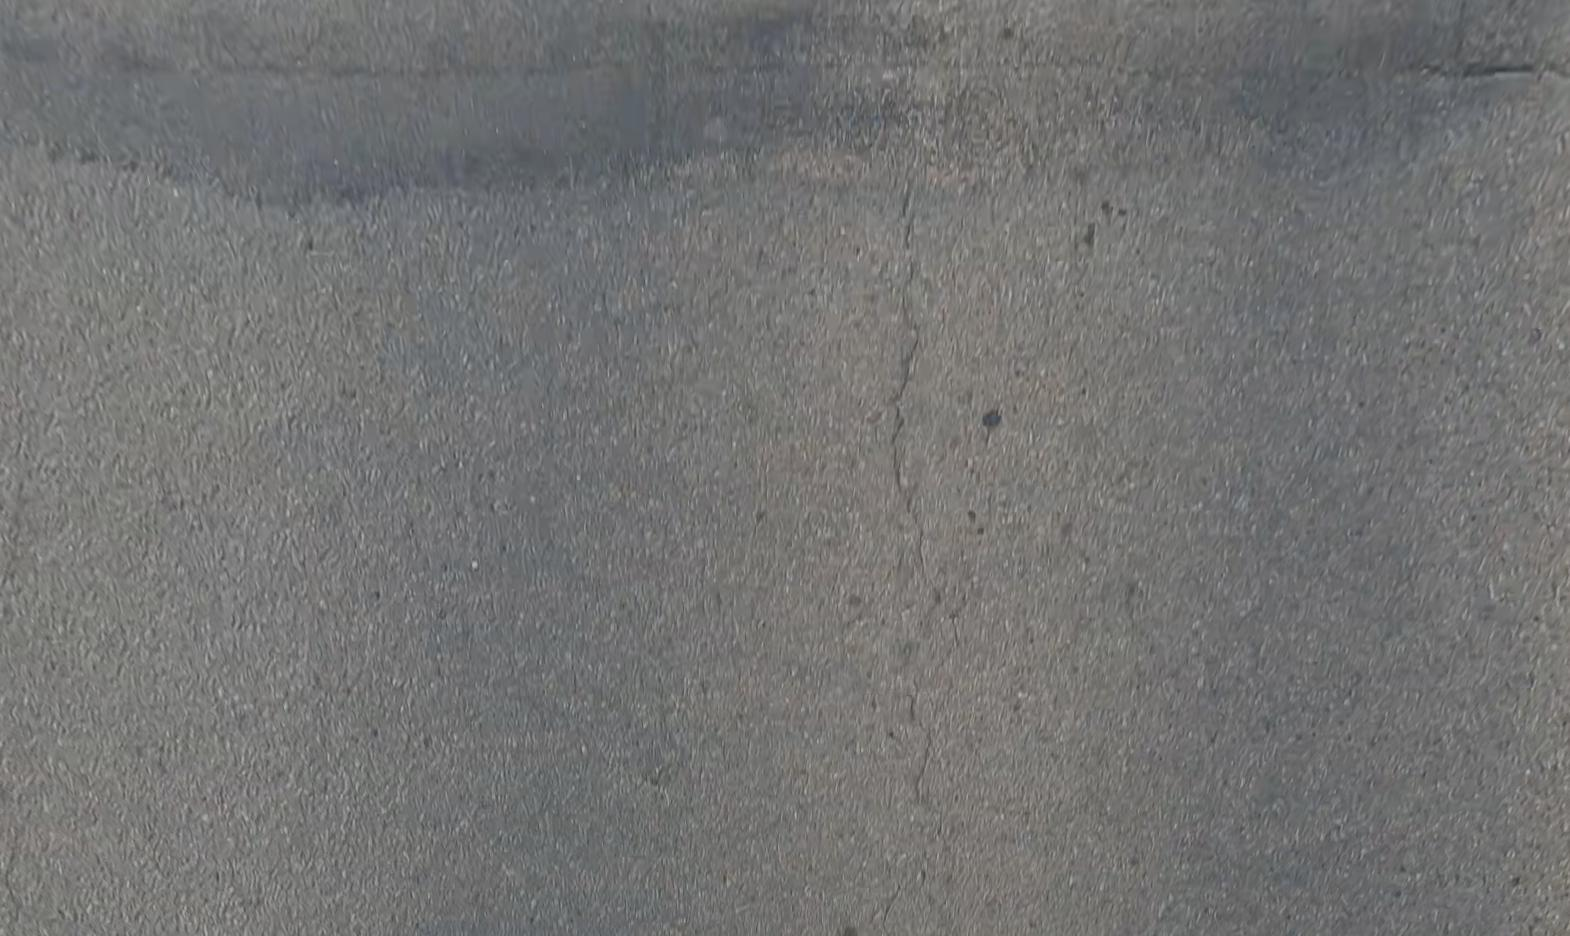pothole_patch_poor: (0, 1, 1570, 201)
